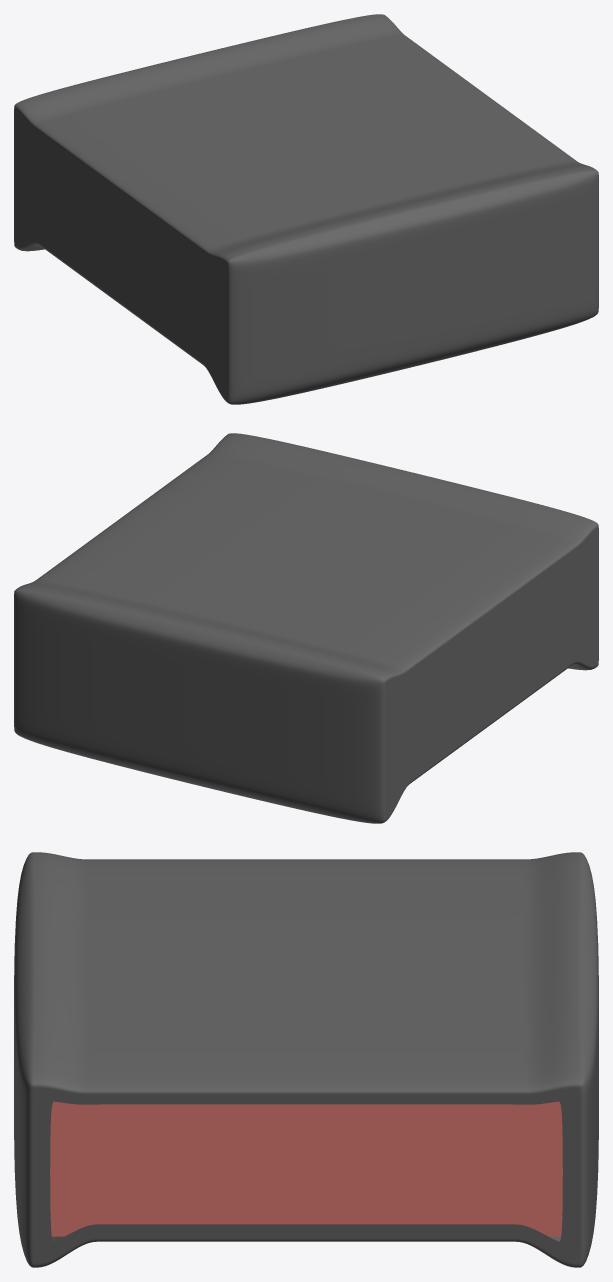
The model's file is oculos.glb.
3 views of the same model, one above another, from view 1: azimuth 30°, elevation 25°; view 2: azimuth 150°, elevation 25°; view 3: azimuth 270°, elevation 25° (orthographic). The views are drawn at different scales.
Visible parts, largest first — view 1: armação; view 2: armação; view 3: armação, vidro.
Boxes of the visible parts, left/top/right/bottom form: armação: left=14, top=14, right=598, bottom=404; armação: left=14, top=433, right=598, bottom=823; armação: left=14, top=852, right=598, bottom=1267; vidro: left=50, top=1101, right=562, bottom=1236.
Bounding box in the file's own units: 2 × 0.811 × 2.13.
